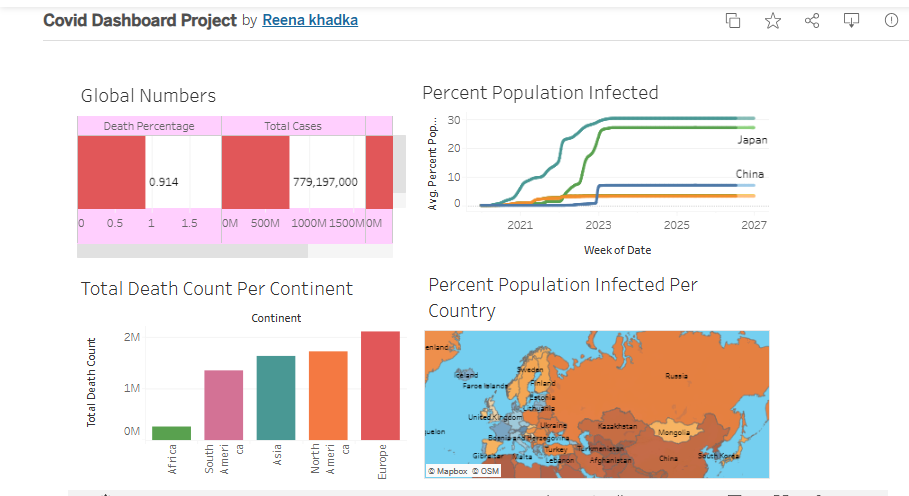

This screenshot's page, from the dashboard's own definition file:
{"tool":"tableau","page":{"name":"Dashboard 1","canvas":[1000,1000],"units":"permille","ordinal":0},"visuals":[{"type":"worksheet","title":"Sheet 1","mark":"Automatic","box":[6.7,71.9,410.9,419.5]},{"type":"worksheet","title":"Sheet 4","mark":"Automatic","rows":["PercentPopulationInfected"],"cols":["date"],"box":[426.8,71.9,428.4,421.2]},{"type":"worksheet","title":"Sheet 3","mark":"Automatic","box":[430.1,493.2,430.1,491.4]},{"type":"worksheet","title":"Sheet 2","mark":"Automatic","rows":["TotalDeathCount"],"cols":["country"],"box":[6.7,500,411.7,486.3]}]}

Visuals, with their boxes on the dashboard's canvas, which has no fixed pixel size, in thousandths of its width and height (x1, y1, x2, y2). These are canvas units, not pixel positions in the 909x496 screenshot, which may show the page scaled, cropped or inside an application window:
"Sheet 1" worksheet: (x1=7, y1=72, x2=418, y2=491)
"Sheet 4" worksheet: (x1=427, y1=72, x2=855, y2=493)
"Sheet 3" worksheet: (x1=430, y1=493, x2=860, y2=985)
"Sheet 2" worksheet: (x1=7, y1=500, x2=418, y2=986)
